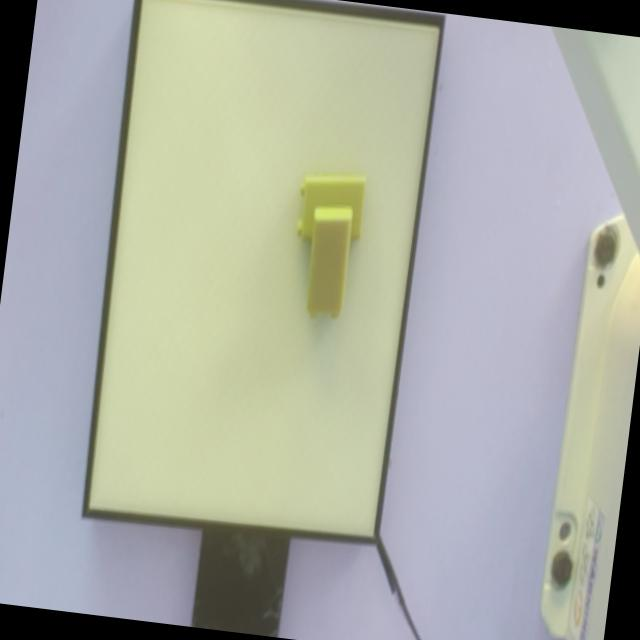bateria: (306, 205, 351, 318)
mesa: (81, 0, 444, 544)
